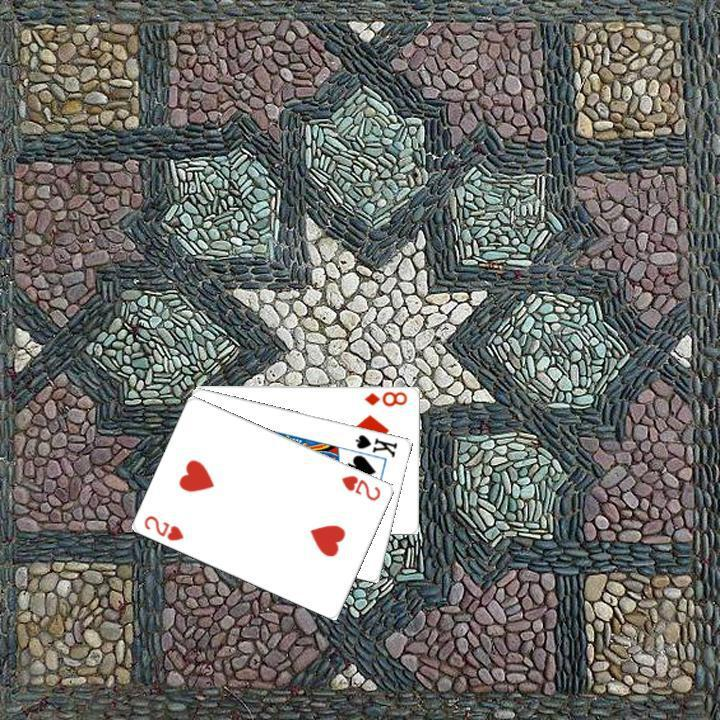2: (337, 471, 383, 503), (140, 511, 186, 543)
8: (360, 387, 409, 408)
K: (351, 430, 400, 459)
